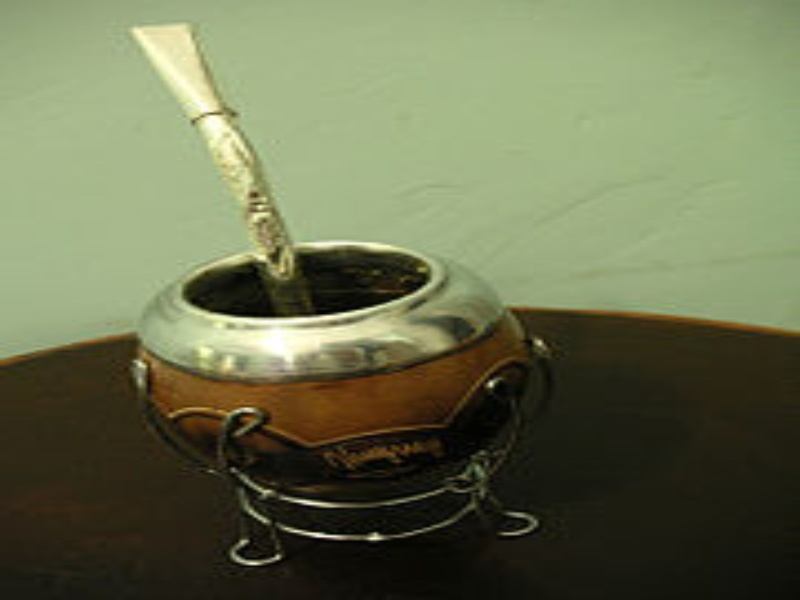guampa: (80, 28, 567, 571)
